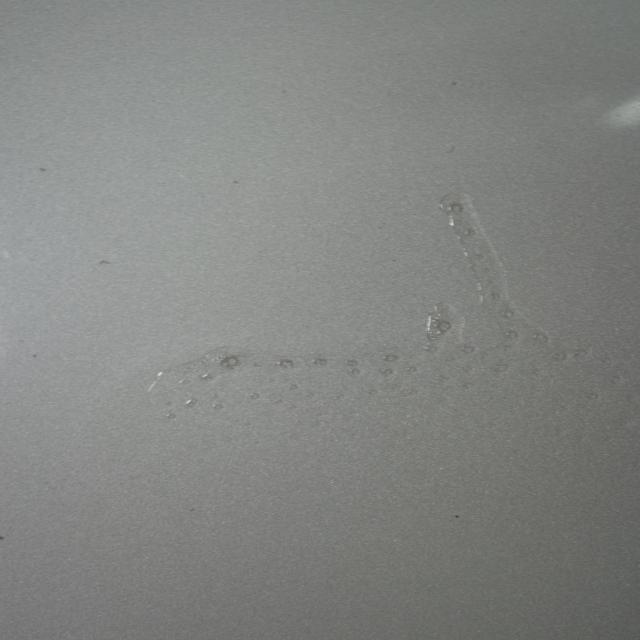runs: (148, 190, 579, 439)
